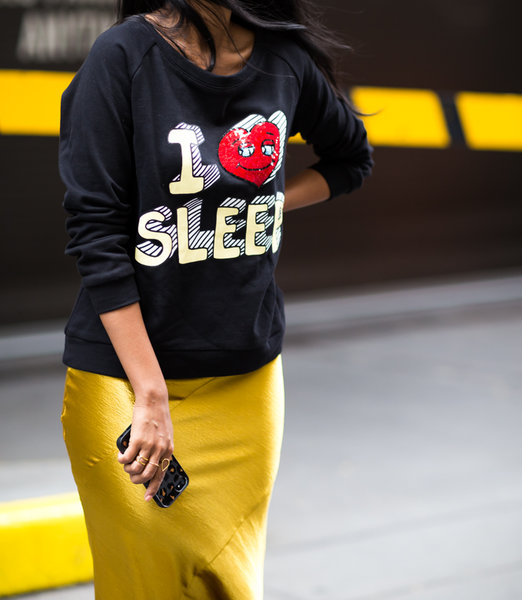accessory: (117, 423, 189, 508)
bottom: (60, 353, 285, 599)
top: (60, 14, 374, 376)
